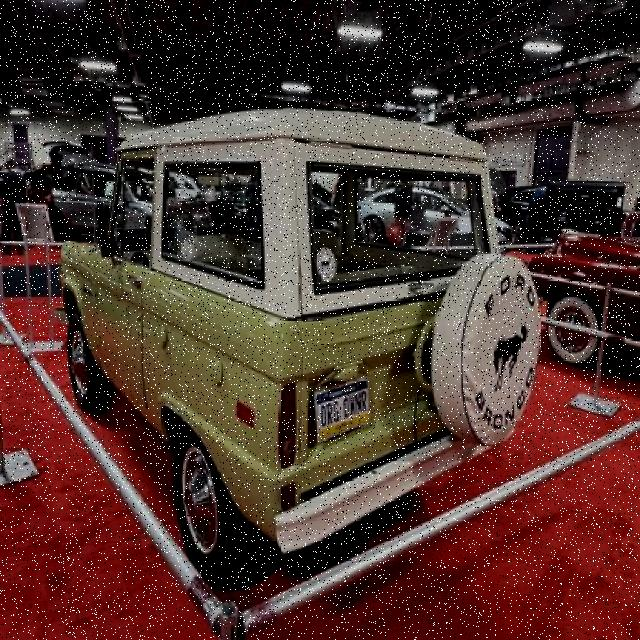licenseplate: (314, 378, 369, 444)
